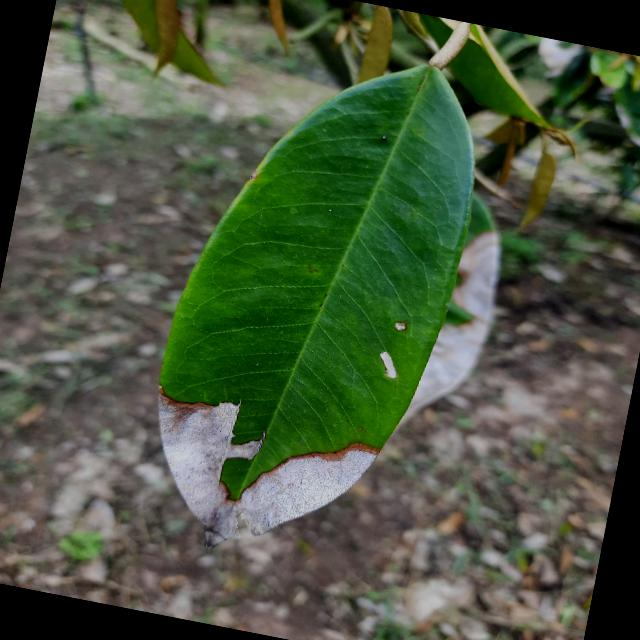Leaf Blight: (124, 17, 541, 599)
